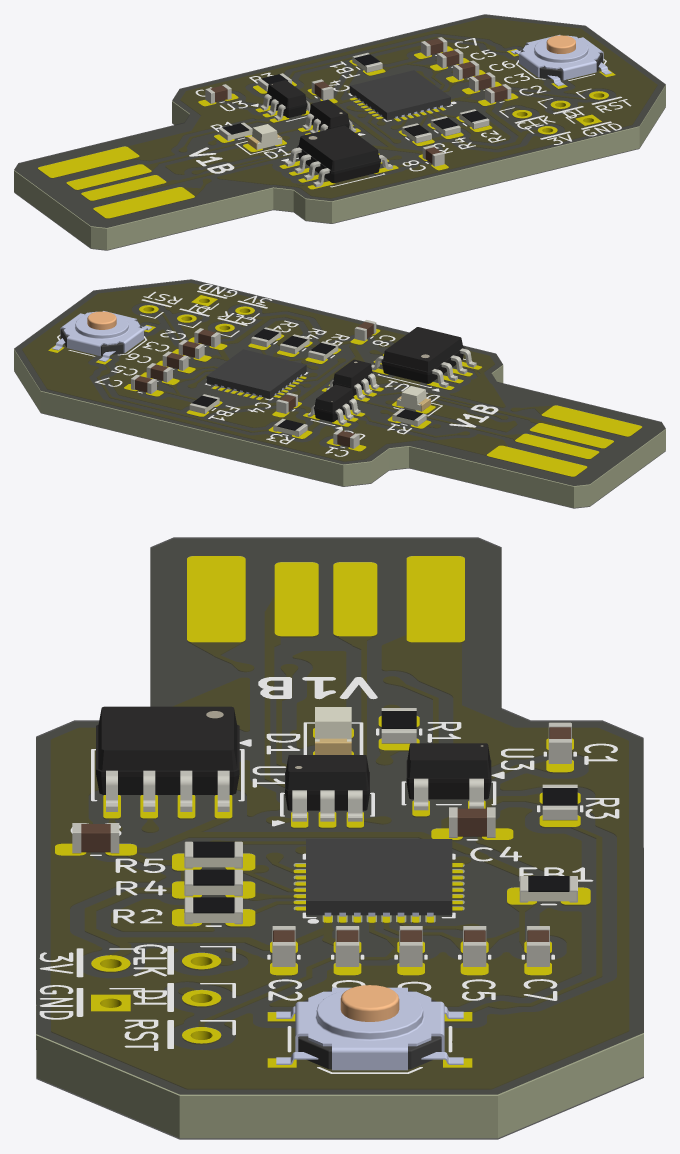
Rendered from 2FAK-V1B.glb.
3 renders of one model, top to bottom at view 1: azimuth 30°, elevation 25°; view 2: azimuth 150°, elevation 25°; view 3: azimuth 270°, elevation 25°, orthographic. The views are drawn at different scales.
Visible parts, largest first — view 1: =>[0:1:1:21], =>[0:1:1:23], =>[0:1:1:18], =>[0:1:1:13], =>[0:1:1:19], =>[0:1:1:9], =>[0:1:1:3], =>[0:1:1:5] (×7), =>[0:1:1:7] (×5), =>[0:1:1:15], =>[0:1:1:17], =>[0:1:1:22] (+1 smaller); view 2: =>[0:1:1:21], =>[0:1:1:23], =>[0:1:1:18], =>[0:1:1:13], =>[0:1:1:19], =>[0:1:1:9], =>[0:1:1:3], =>[0:1:1:5] (×7), =>[0:1:1:7] (×6), =>[0:1:1:15], =>[0:1:1:17], =>[0:1:1:22] (+1 smaller); view 3: =>[0:1:1:21], =>[0:1:1:23], =>[0:1:1:18], =>[0:1:1:13], =>[0:1:1:19], =>[0:1:1:9], =>[0:1:1:3], =>[0:1:1:7] (×6), =>[0:1:1:5] (×8), =>[0:1:1:17], =>[0:1:1:15], =>[0:1:1:11] (+1 smaller).
Part boxes in pixels (box(x1,y1,x2,y2)): =>[0:1:1:21]: box(14, 14, 665, 227); =>[0:1:1:23]: box(14, 15, 665, 249); =>[0:1:1:18]: box(38, 18, 656, 218); =>[0:1:1:13]: box(285, 125, 392, 187); =>[0:1:1:19]: box(189, 38, 631, 187); =>[0:1:1:9]: box(510, 34, 611, 86); =>[0:1:1:3]: box(350, 70, 450, 119); =>[0:1:1:5] (×7): box(205, 37, 511, 166); =>[0:1:1:7] (×5): box(219, 52, 489, 143); =>[0:1:1:15]: box(260, 80, 310, 120); =>[0:1:1:17]: box(302, 99, 356, 133); =>[0:1:1:22]: box(14, 107, 665, 250); =>[0:1:1:21]: box(14, 279, 665, 485); =>[0:1:1:23]: box(14, 280, 665, 507); =>[0:1:1:18]: box(23, 283, 641, 476); =>[0:1:1:13]: box(371, 327, 476, 387); =>[0:1:1:19]: box(57, 284, 498, 456); =>[0:1:1:9]: box(52, 311, 151, 361); =>[0:1:1:3]: box(206, 349, 306, 398); =>[0:1:1:5] (×7): box(131, 320, 376, 448); =>[0:1:1:7] (×6): box(189, 327, 426, 436); =>[0:1:1:15]: box(307, 384, 360, 424); =>[0:1:1:17]: box(326, 359, 379, 399); =>[0:1:1:22]: box(14, 371, 665, 508); =>[0:1:1:21]: box(36, 537, 643, 1094); =>[0:1:1:23]: box(36, 539, 643, 1138); =>[0:1:1:18]: box(51, 556, 628, 1088); =>[0:1:1:13]: box(96, 706, 239, 811); =>[0:1:1:19]: box(39, 677, 619, 1073); =>[0:1:1:9]: box(276, 985, 463, 1070); =>[0:1:1:3]: box(306, 839, 452, 916); =>[0:1:1:7] (×6): box(184, 708, 577, 924); =>[0:1:1:5] (×8): box(72, 722, 571, 966); =>[0:1:1:17]: box(285, 755, 369, 821); =>[0:1:1:15]: box(406, 743, 491, 810); =>[0:1:1:11]: box(315, 707, 351, 754).
Bounding box in the file's own units: 0.045 × 0.00351 × 0.0208.
